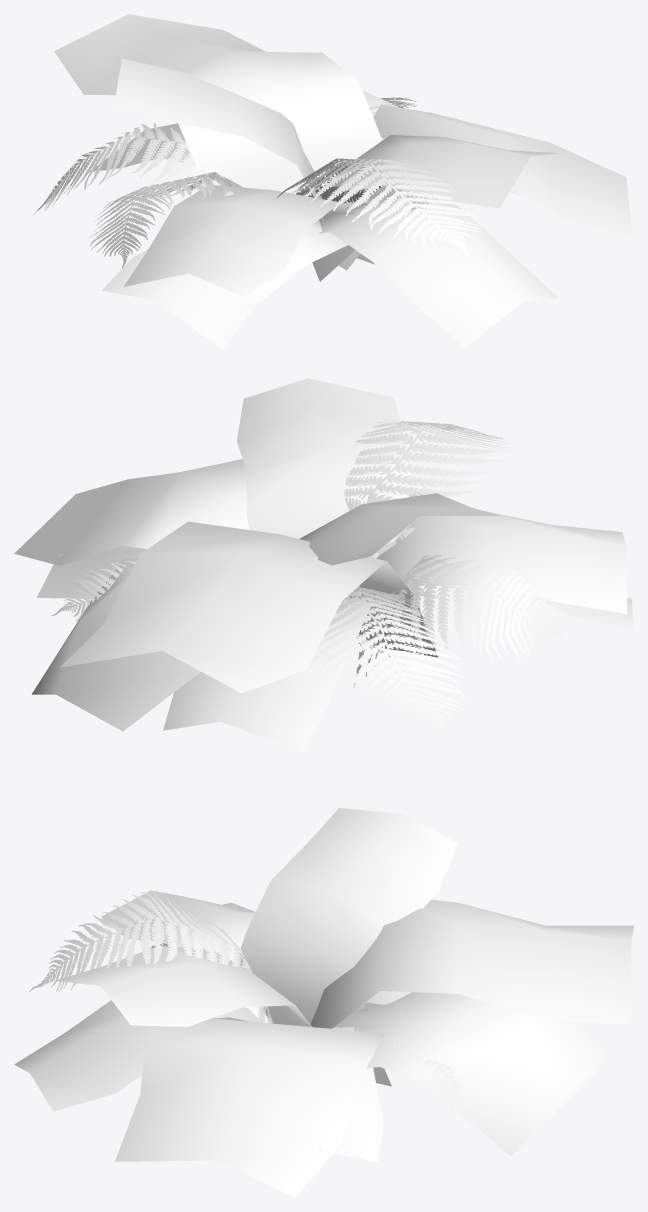
File: Env_Plants_Fern_01.fbx
The picture shows the model from 3 angles, top to bottom: view 1: azimuth 30°, elevation 25°; view 2: azimuth 150°, elevation 25°; view 3: azimuth 270°, elevation 25°; orthographic projection. The views are drawn at different scales.
Parts seen in each view (by area): view 1: Env_Plants_FernLeaves_01.001, Env_Plants_FernLeaves_01.007, Env_Plants_FernLeaves_01.003, Env_Plants_FernLeaves_01.004, Env_Plants_FernLeaves_01.010, Env_Plants_FernLeaves_01.002, Env_Plants_FernLeavesalt_01.001, Env_Plants_FernLeaves_01.008, Env_Plants_FernLeavesalt_01.002, Env_Plants_FernLeavesalt_01.003, Env_Plants_FernLeaves_01.009; view 2: Env_Plants_FernLeaves_01.001, Env_Plants_FernLeaves_01.002, Env_Plants_FernLeaves_01.003, Env_Plants_FernLeaves_01.004, Env_Plants_FernLeaves_01.009, Env_Plants_FernLeaves_01.005, Env_Plants_FernLeavesalt_01.002, Env_Plants_FernLeavesalt_01.003, Env_Plants_FernLeavesalt_01.001, Env_Plants_FernLeaves_01.010, Env_Plants_FernLeaves_01.006, Env_Plants_FernLeaves_01.008 (+1 smaller); view 3: Env_Plants_FernLeaves_01.004, Env_Plants_FernLeaves_01.001, Env_Plants_FernLeaves_01.010, Env_Plants_FernLeaves_01.005, Env_Plants_FernLeaves_01.002, Env_Plants_FernLeaves_01.007, Env_Plants_FernLeavesalt_01.001, Env_Plants_FernLeaves_01.003, Env_Plants_FernLeaves_01.006, Env_Plants_FernLeavesalt_01.004.
Boxes of the visible parts, <box> form: Env_Plants_FernLeaves_01.001: <box>54,14,382,196</box>; Env_Plants_FernLeaves_01.007: <box>318,195,558,347</box>; Env_Plants_FernLeaves_01.003: <box>123,185,354,296</box>; Env_Plants_FernLeaves_01.004: <box>312,104,633,281</box>; Env_Plants_FernLeaves_01.010: <box>114,56,327,265</box>; Env_Plants_FernLeaves_01.002: <box>321,135,558,208</box>; Env_Plants_FernLeavesalt_01.001: <box>275,158,481,258</box>; Env_Plants_FernLeaves_01.008: <box>101,191,374,349</box>; Env_Plants_FernLeavesalt_01.002: <box>34,123,203,214</box>; Env_Plants_FernLeavesalt_01.003: <box>89,172,247,268</box>; Env_Plants_FernLeaves_01.009: <box>89,123,195,172</box>; Env_Plants_FernLeaves_01.001: <box>60,521,438,693</box>; Env_Plants_FernLeaves_01.002: <box>237,378,410,558</box>; Env_Plants_FernLeaves_01.003: <box>367,511,626,615</box>; Env_Plants_FernLeaves_01.004: <box>14,459,420,602</box>; Env_Plants_FernLeaves_01.009: <box>163,597,381,752</box>; Env_Plants_FernLeaves_01.005: <box>31,558,391,731</box>; Env_Plants_FernLeavesalt_01.002: <box>313,586,469,740</box>; Env_Plants_FernLeavesalt_01.003: <box>353,554,566,687</box>; Env_Plants_FernLeavesalt_01.001: <box>344,421,516,598</box>; Env_Plants_FernLeaves_01.010: <box>299,493,500,565</box>; Env_Plants_FernLeaves_01.006: <box>36,546,146,598</box>; Env_Plants_FernLeaves_01.008: <box>435,561,633,629</box>; Env_Plants_FernLeaves_01.004: <box>115,1017,391,1197</box>; Env_Plants_FernLeaves_01.001: <box>310,899,633,1028</box>; Env_Plants_FernLeaves_01.010: <box>239,808,457,1025</box>; Env_Plants_FernLeaves_01.005: <box>334,992,615,1156</box>; Env_Plants_FernLeaves_01.002: <box>54,946,312,1026</box>; Env_Plants_FernLeaves_01.007: <box>14,1000,258,1111</box>; Env_Plants_FernLeavesalt_01.001: <box>29,891,273,1023</box>; Env_Plants_FernLeaves_01.003: <box>101,890,268,1023</box>; Env_Plants_FernLeaves_01.006: <box>242,1027,383,1174</box>; Env_Plants_FernLeavesalt_01.004: <box>337,1008,463,1114</box>.
Size of the model in its own units: 243 by 109 by 246.
